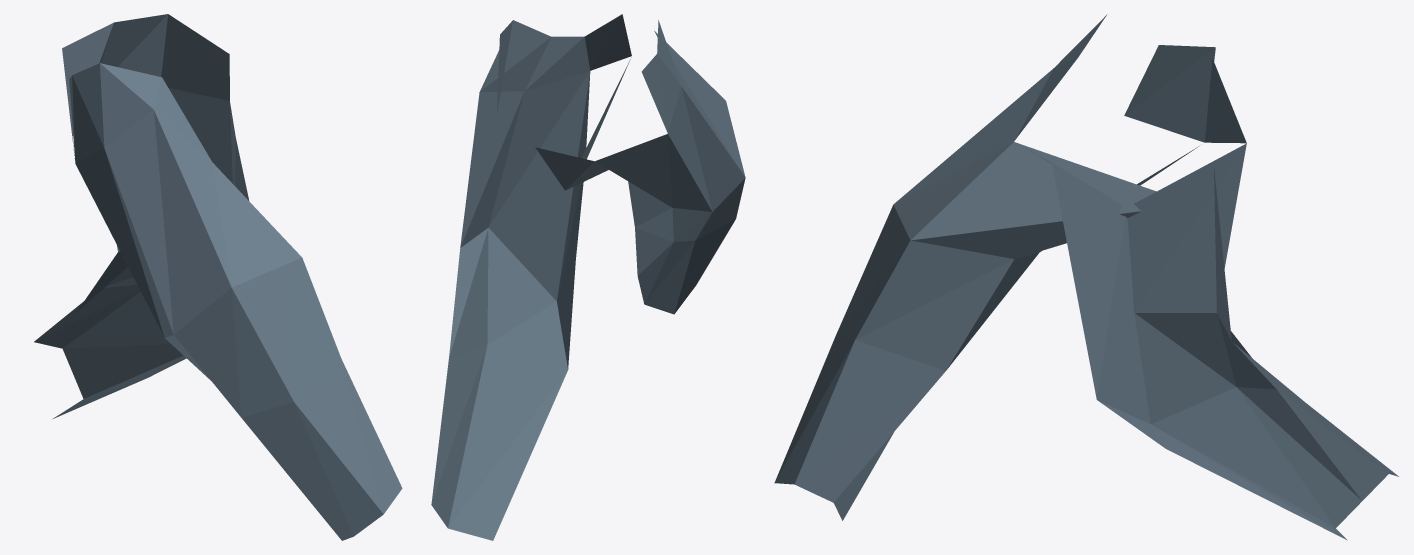
3 renders of one model, left to right at view 1: azimuth 30°, elevation 25°; view 2: azimuth 150°, elevation 25°; view 3: azimuth 270°, elevation 25°, orthographic. The views are drawn at different scales.
Size of the model in its own units: 0.4723 by 1.11 by 1.3.
Materials: 1 (1 with a texture image).
